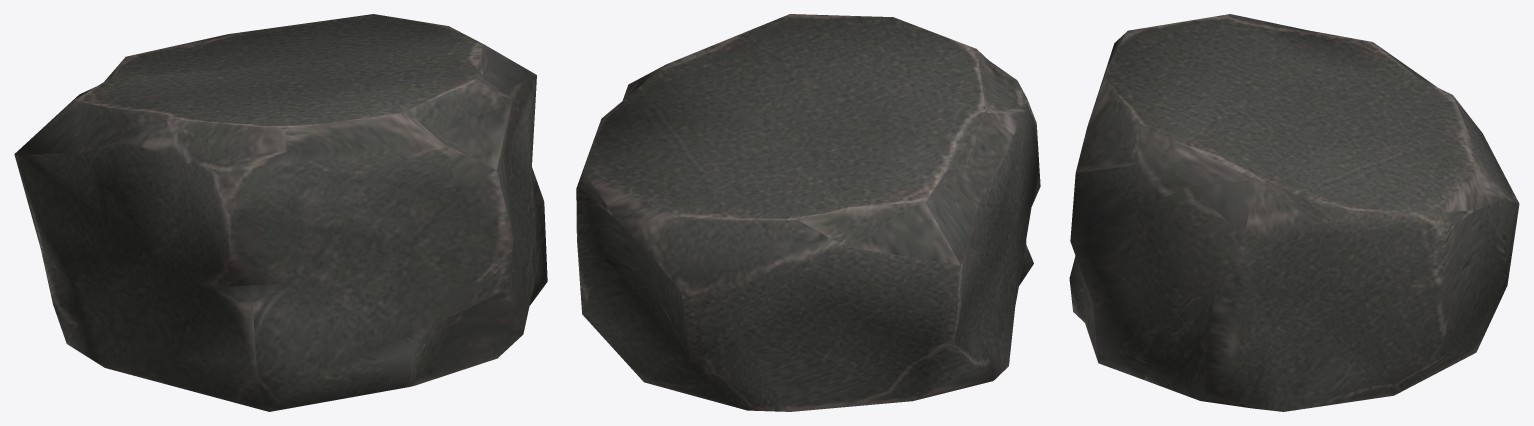
The model's file is boulder_small.gltf.
The picture shows the model from 3 angles, left to right: view 1: azimuth 30°, elevation 25°; view 2: azimuth 150°, elevation 25°; view 3: azimuth 270°, elevation 25°; orthographic projection. The views are drawn at different scales.
Visible parts, largest first — view 1: boulder_small; view 2: boulder_small; view 3: boulder_small.
Part boxes in pixels (x1=…): boulder_small: x1=14, y1=14, x2=547, y2=411; boulder_small: x1=576, y1=14, x2=1040, y2=411; boulder_small: x1=1069, y1=14, x2=1519, y2=411.
Bounding box in the file's own units: 0.84 × 0.48 × 0.8.
1 material, 1 textured.
